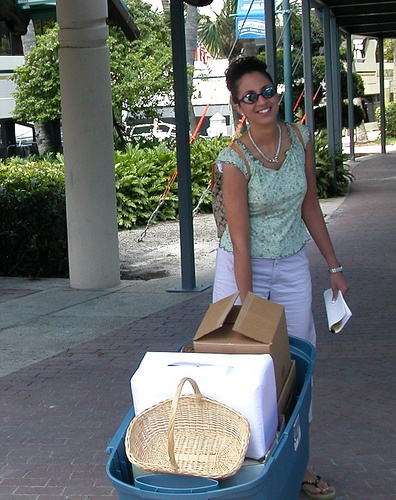head: (231, 71, 281, 125)
person: (207, 58, 348, 345)
